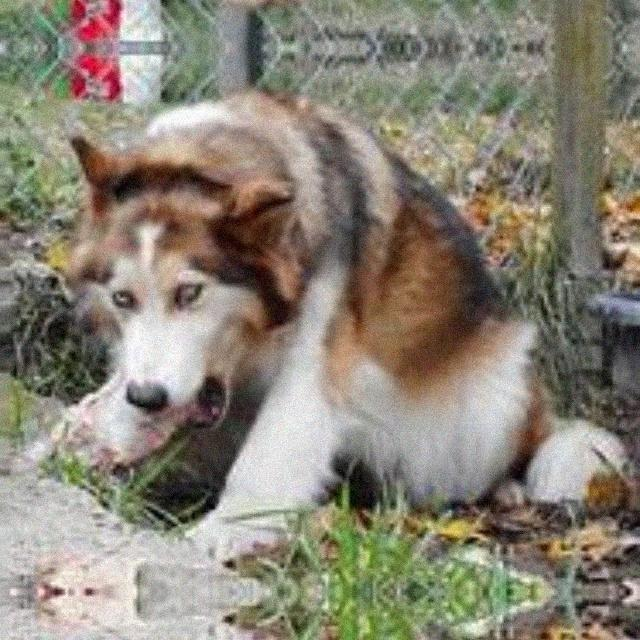dog: (61, 61, 594, 592), (61, 591, 594, 640), (61, 0, 594, 33)
